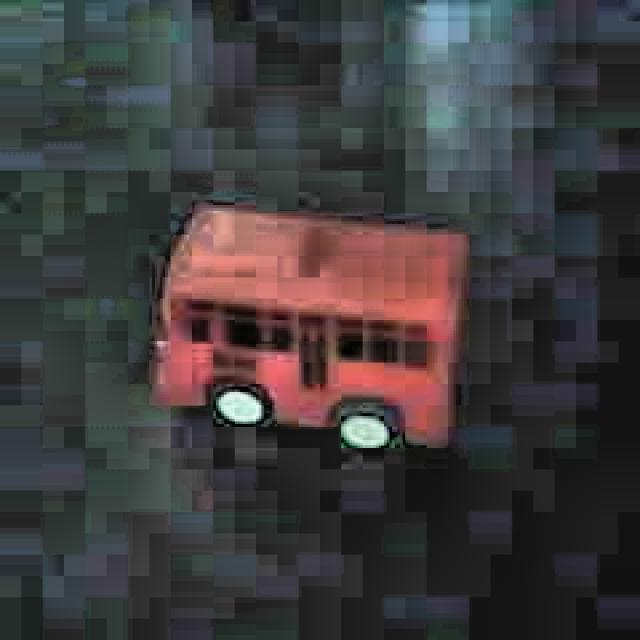bus: (144, 194, 470, 466)
